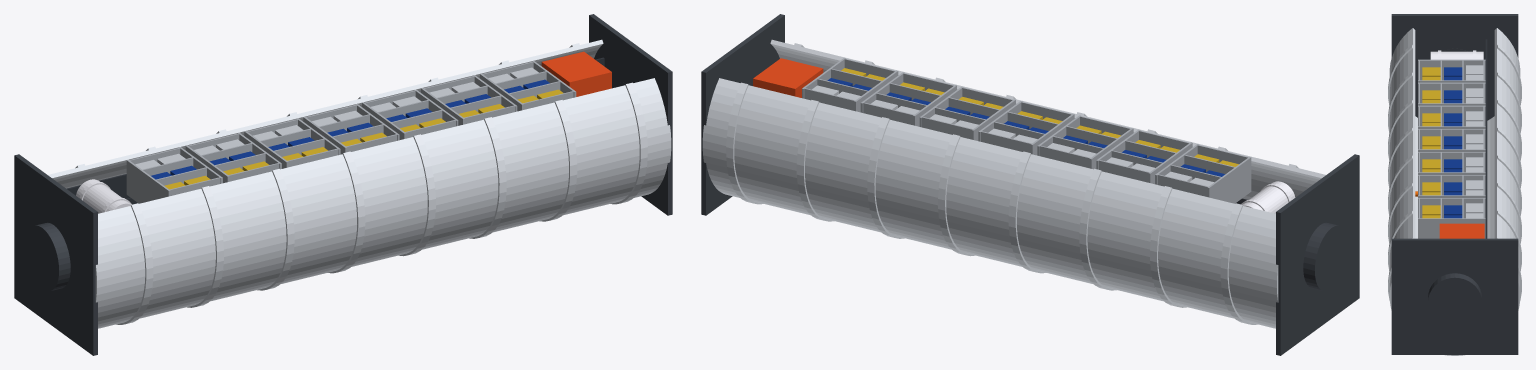
The model's file is llaso_lunar_cargo_container.obj.
The picture shows the model from 3 angles, left to right: view 1: azimuth 30°, elevation 25°; view 2: azimuth 150°, elevation 25°; view 3: azimuth 270°, elevation 25°; orthographic projection. The views are drawn at different scales.
Visible parts, largest first — view 1: HullOuter, HullBulkhead, RackStructure, Lockers, SciencePODs, CTB_Blue, CTB_Gold, CryoTanks, FloorDeck; view 2: HullOuter, RackStructure, HullBulkhead, Lockers, SciencePODs, CTB_Gold, CTB_Blue, CryoTanks; view 3: HullBulkhead, HullOuter, RackStructure, Lockers, CTB_Gold, CTB_Blue, SciencePODs, FloorDeck, CryoTanks.
Boxes of the visible parts, left/top/right/bottom form: HullOuter: left=48, top=39, right=671, bottom=328; HullBulkhead: left=14, top=14, right=672, bottom=355; RackStructure: left=126, top=61, right=576, bottom=203; Lockers: left=135, top=67, right=538, bottom=169; SciencePODs: left=541, top=51, right=611, bottom=96; CTB_Blue: left=151, top=79, right=549, bottom=179; CTB_Gold: left=164, top=89, right=563, bottom=189; CryoTanks: left=76, top=179, right=131, bottom=213; FloorDeck: left=66, top=57, right=604, bottom=204; HullOuter: left=702, top=39, right=1325, bottom=328; RackStructure: left=802, top=58, right=1251, bottom=203; HullBulkhead: left=701, top=14, right=1359, bottom=355; Lockers: left=812, top=85, right=1213, bottom=186; SciencePODs: left=753, top=58, right=823, bottom=97; CTB_Gold: left=841, top=68, right=1238, bottom=166; CTB_Blue: left=827, top=78, right=1225, bottom=176; CryoTanks: left=1241, top=181, right=1295, bottom=213; HullBulkhead: left=1391, top=14, right=1518, bottom=354; HullOuter: left=1388, top=28, right=1521, bottom=355; RackStructure: left=1418, top=59, right=1485, bottom=238; Lockers: left=1466, top=65, right=1483, bottom=218; CTB_Gold: left=1422, top=67, right=1440, bottom=218; CTB_Blue: left=1444, top=67, right=1462, bottom=218; SciencePODs: left=1439, top=223, right=1484, bottom=238; FloorDeck: left=1484, top=39, right=1487, bottom=238; CryoTanks: left=1430, top=50, right=1483, bottom=59.
Bounding box in the file's own units: 12.79 × 2.99 × 3.07.
